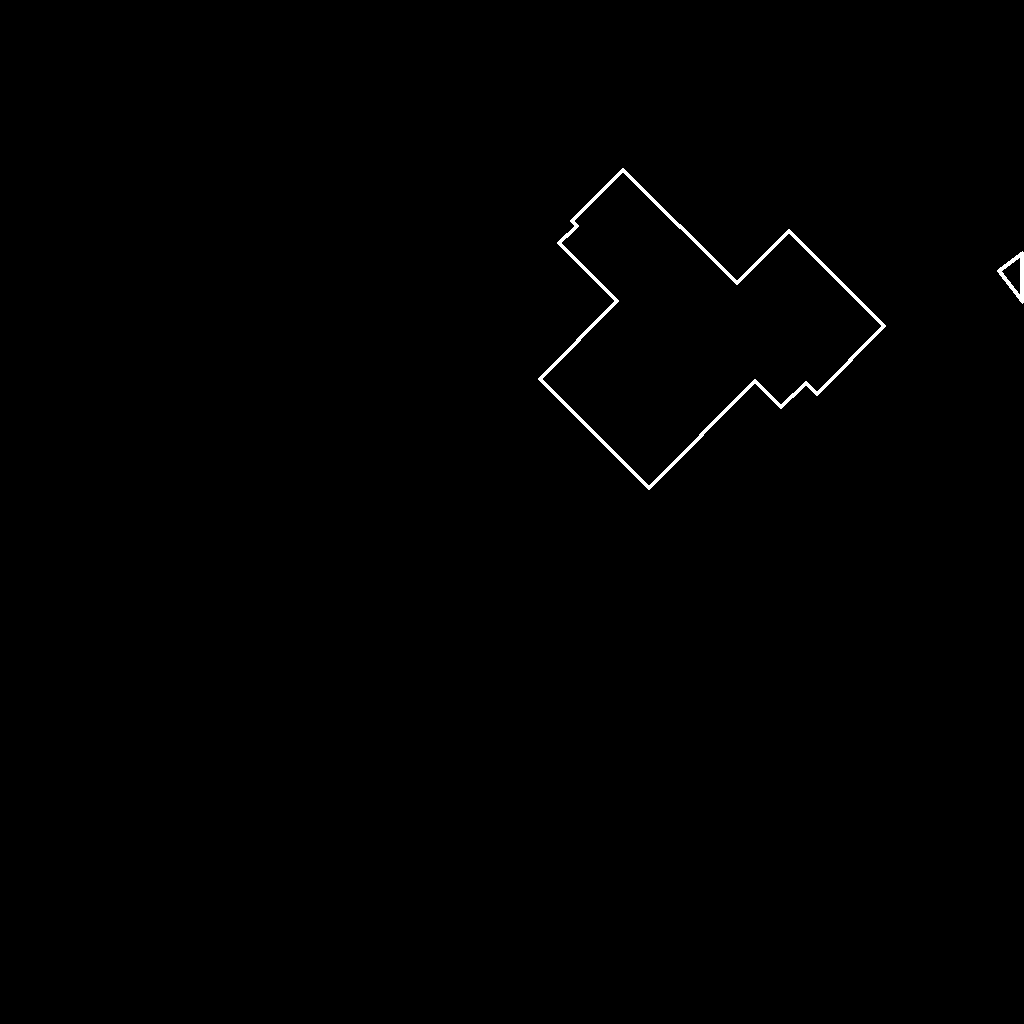building: (540, 170, 885, 489), (999, 253, 1024, 303)
